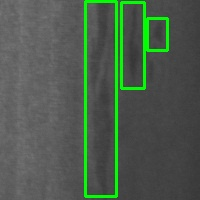inclusion: (85, 1, 116, 196), (121, 2, 144, 88), (147, 18, 167, 50)
